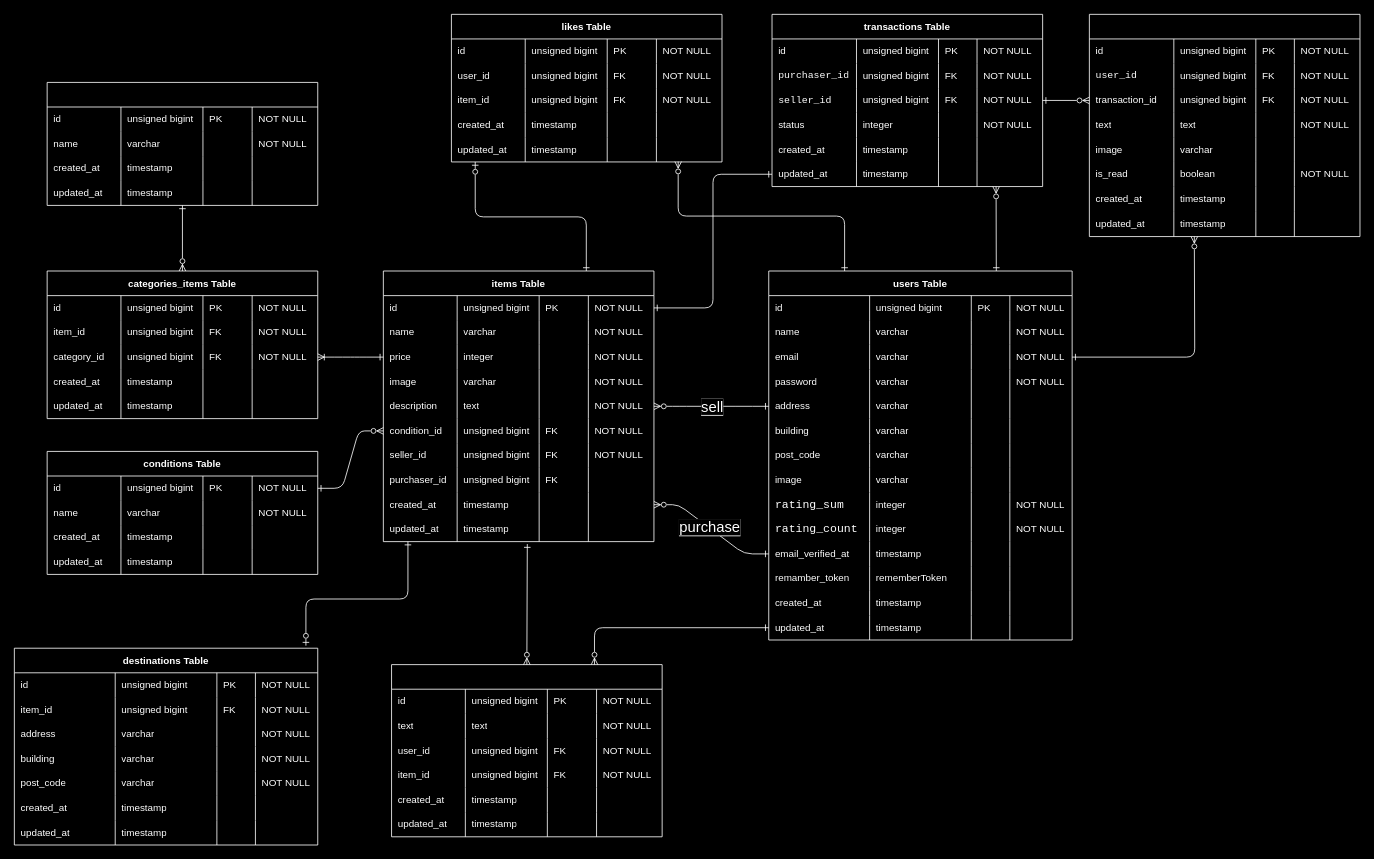
Image size: 1374x859. Some labels were removed from this diagram. The box of each missing label's shape, as (x1, y1, x2, y2) in pixels:
categories Table: (46, 82, 318, 205)
comments Table: (391, 664, 662, 837)
messages Table: (1089, 14, 1360, 237)
